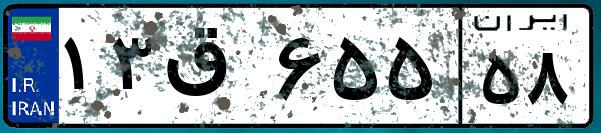1: (57, 26, 110, 100)
3: (110, 28, 158, 98)
5: (385, 28, 445, 110), (330, 28, 385, 110), (475, 38, 525, 113)
6: (270, 28, 330, 110)
8: (525, 38, 570, 115)
ق: (158, 20, 270, 120)
